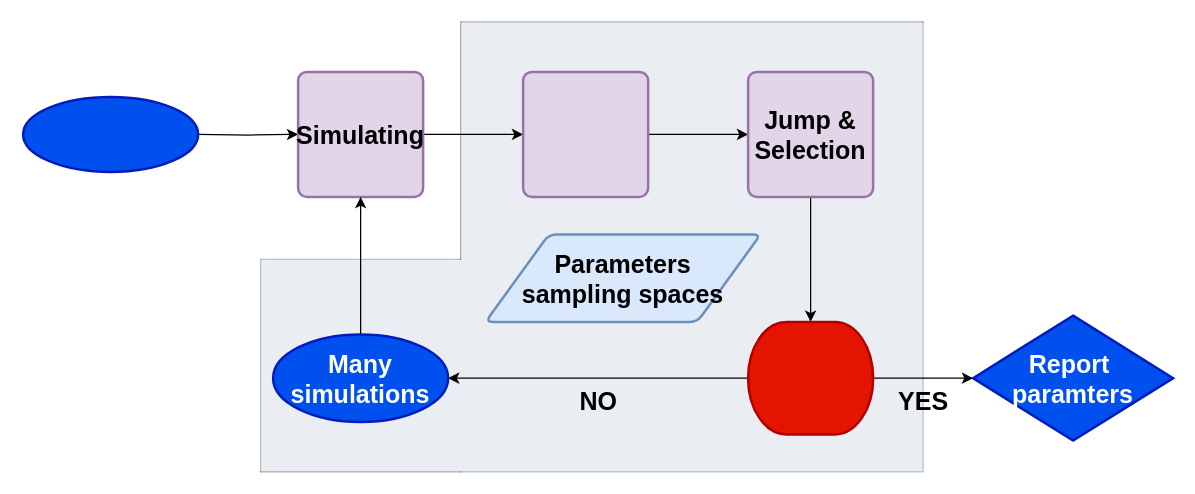
Image size: 1195x494. Some labels were removed from this diagram. The shapes that lost their labels are listed below. From the top down, each one's centre as x and y in pixels, then its label:
the point at 110,133: Single simulation
the point at 585,134: Cost computing (TSS)
the point at 810,377: Condition statisfied
